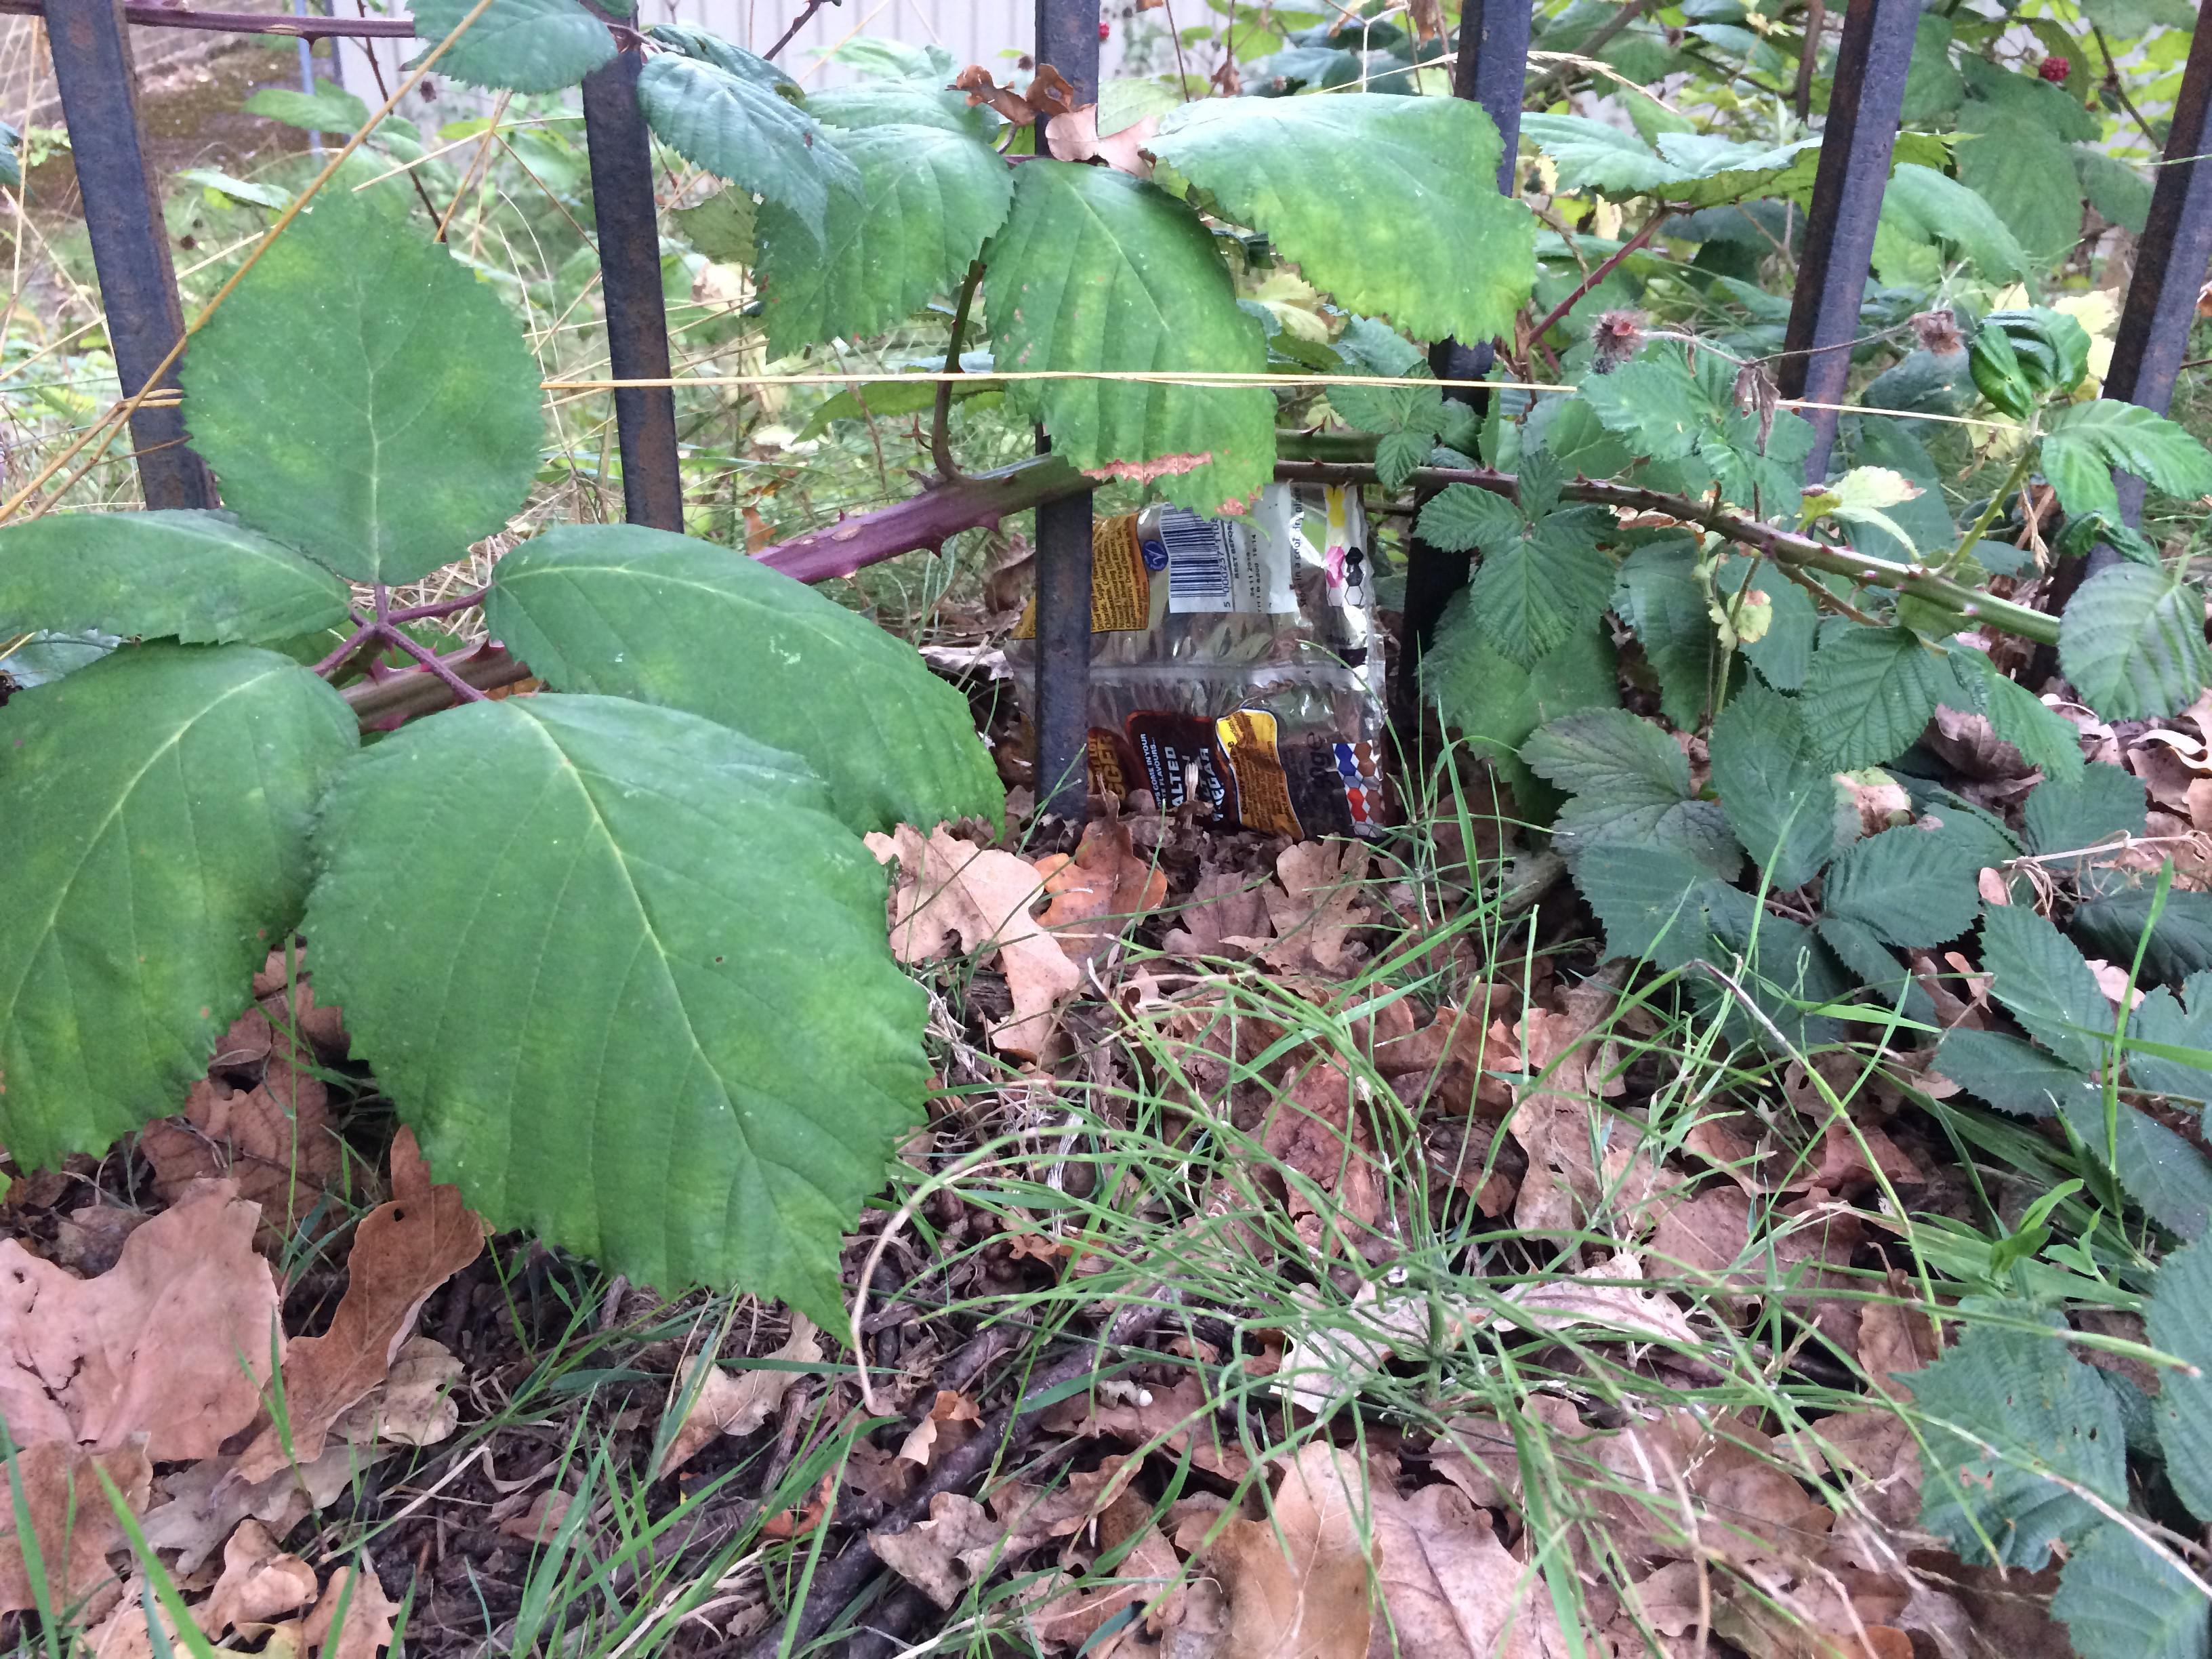Trash: (1003, 474, 1400, 852)
